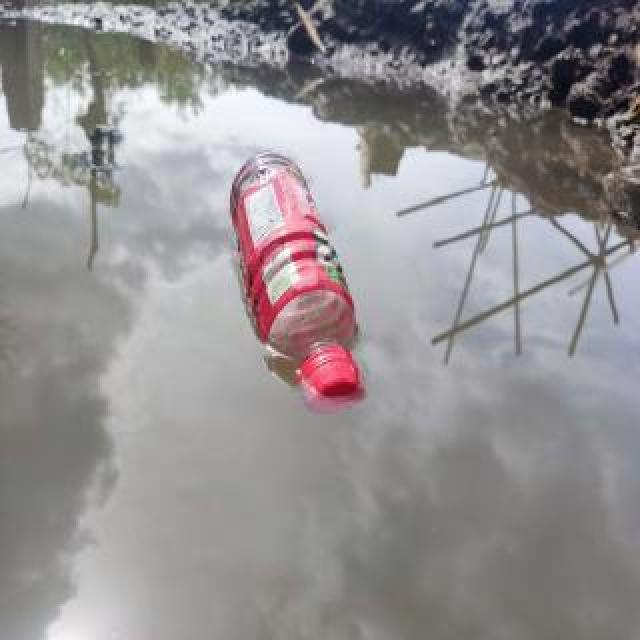bottle: (224, 145, 372, 419)
